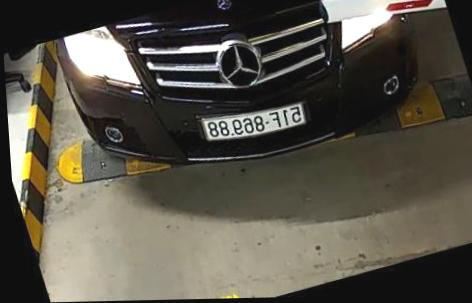License_Plate: (193, 98, 311, 148)
